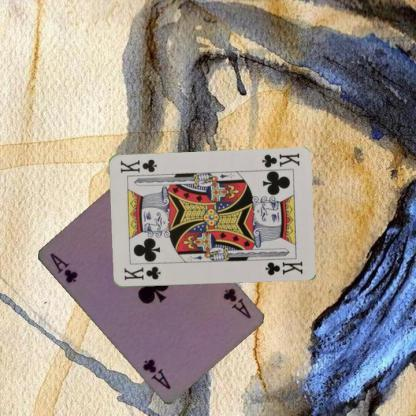Ac: (46, 248, 80, 286), (219, 286, 252, 320)
Kc: (121, 263, 162, 282), (260, 151, 300, 169)
